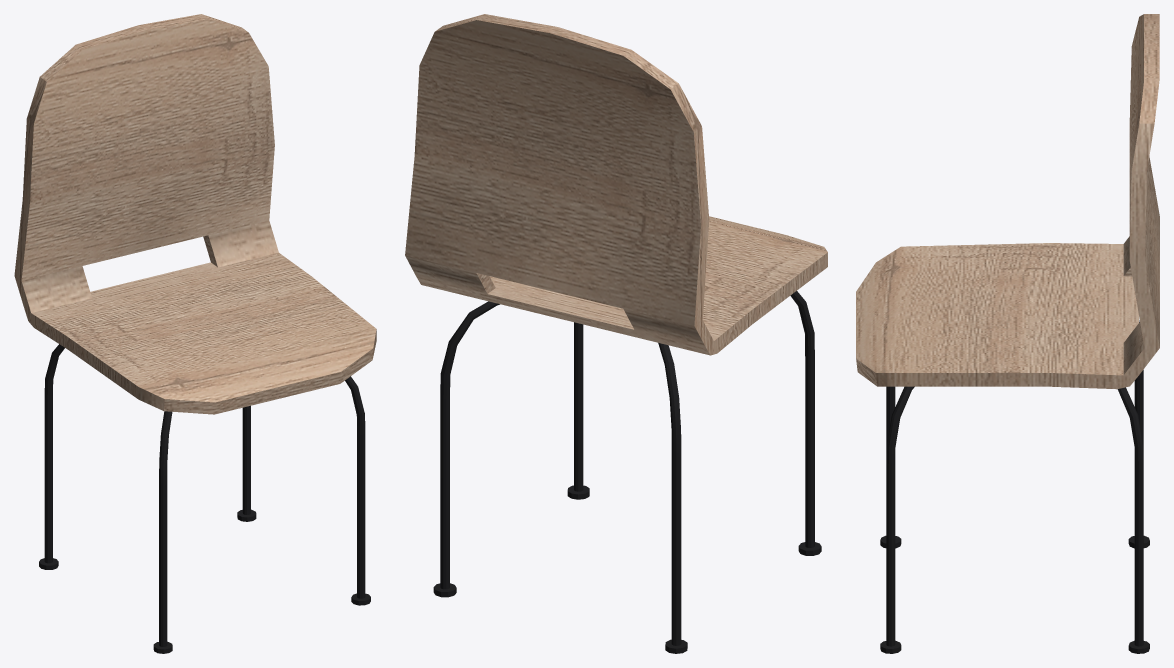
Rendered from newbookarchive_chair.fbx.
The picture shows the model from 3 angles, left to right: view 1: azimuth 30°, elevation 25°; view 2: azimuth 150°, elevation 25°; view 3: azimuth 270°, elevation 25°; orthographic projection. The views are drawn at different scales.
Parts seen in each view (by area): view 1: newbookarchive_chair; view 2: newbookarchive_chair; view 3: newbookarchive_chair.
Part boxes in pixels (x1,y1,x2,y2): newbookarchive_chair: (14, 14, 376, 653); newbookarchive_chair: (405, 14, 827, 653); newbookarchive_chair: (856, 14, 1159, 653).
Size of the model in its own units: 0.00316 by 0.00622 by 0.00309.
Materials: 1 (1 with a texture image).
